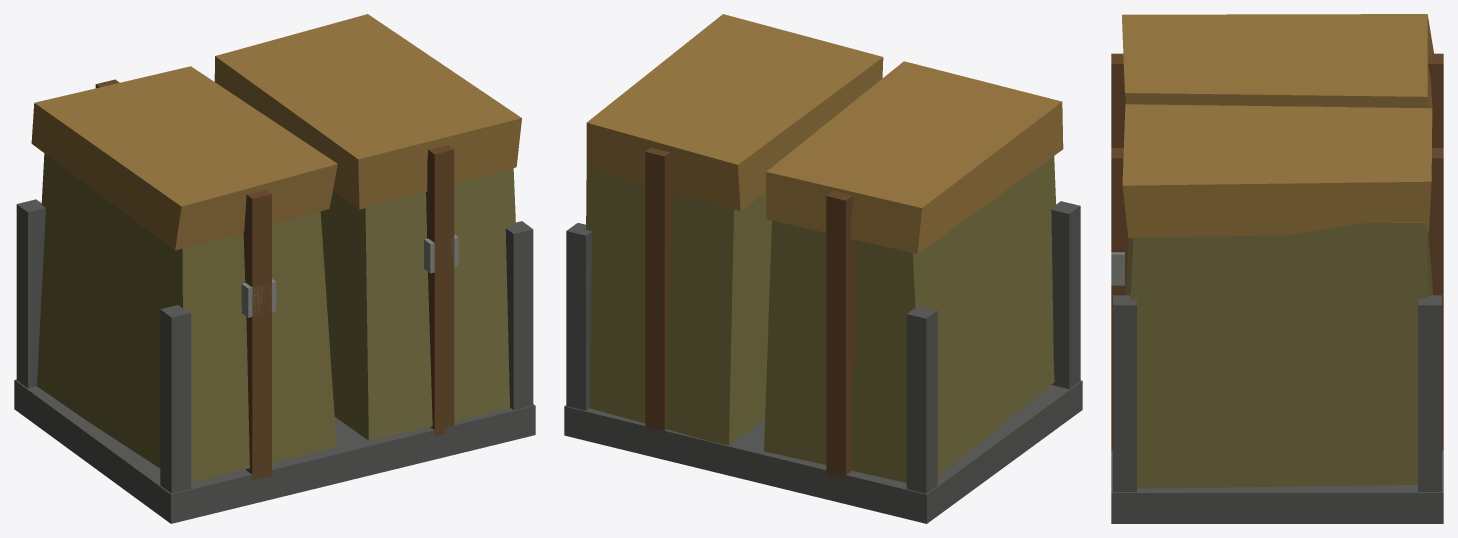
File: cargo_panniers.glb
3 views of the same model, side by side, from view 1: azimuth 30°, elevation 25°; view 2: azimuth 150°, elevation 25°; view 3: azimuth 270°, elevation 25° (orthographic). The views are drawn at different scales.
Visible parts, largest first — view 1: cargo_panniers; view 2: cargo_panniers; view 3: cargo_panniers.
Part boxes in pixels (left/top/right/bottom): cargo_panniers: left=14, top=14, right=535, bottom=523; cargo_panniers: left=564, top=14, right=1082, bottom=523; cargo_panniers: left=1111, top=14, right=1443, bottom=523.
Bounding box in the file's own units: 0.65 × 0.5367 × 0.484.
